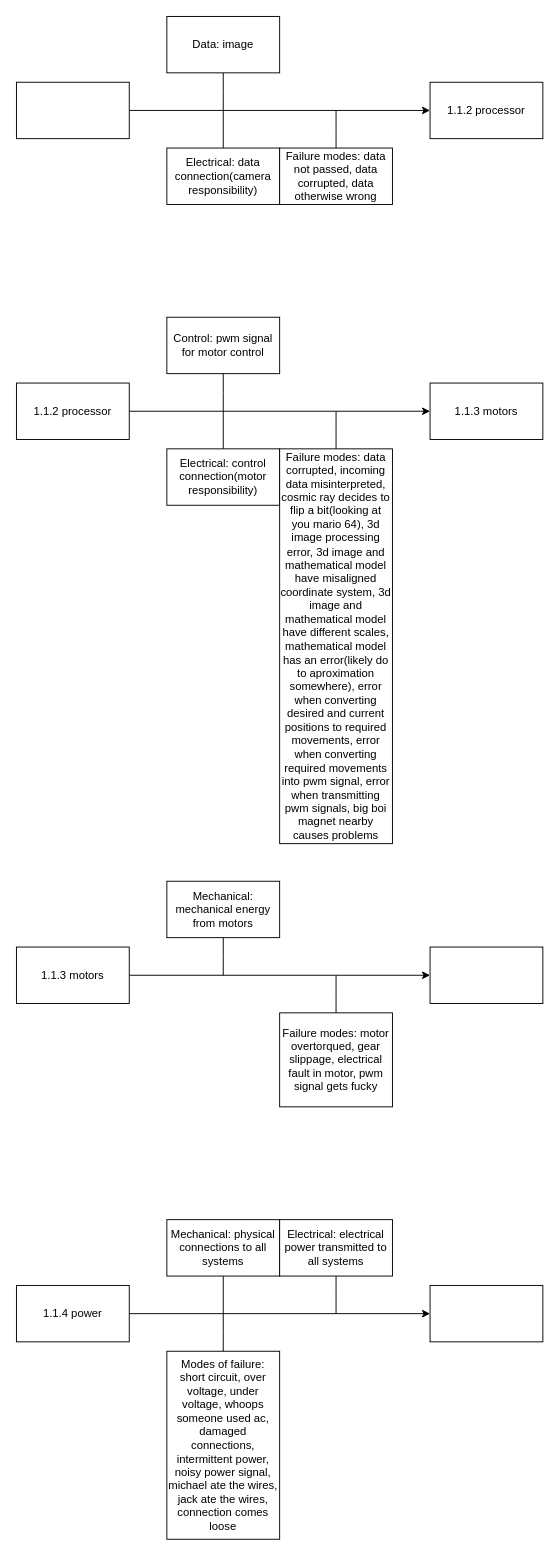
This 559x1556 diagram has some shape labels left out. The shapes that lost their labels are listed below. From the top down, each one's centre as x and y in pixels, then its label:
At (72,110): "1.1.1 camera".
At (486,974): "1.2.2 force transmission".
At (486,1313): "1.1.1 camera, 1.1.2 processor, 1.1.3 motors".
